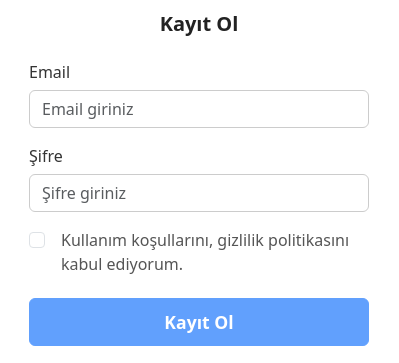
Test case: Login Form Tests › Başarılı form doldurulduğunda submit edip success sayfasına yönlenir
Type "test@example.com" into the field with id "email" at (199, 109), box [29, 90, 369, 128]
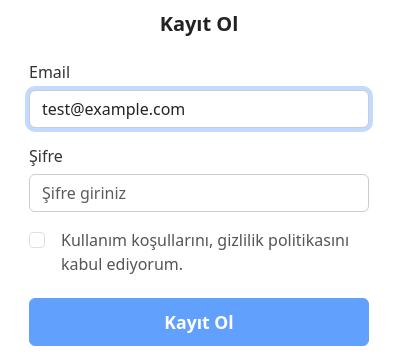
Type "ValidPass1!" into the password field labelled "Şifre" at (199, 193), box [29, 174, 369, 212]
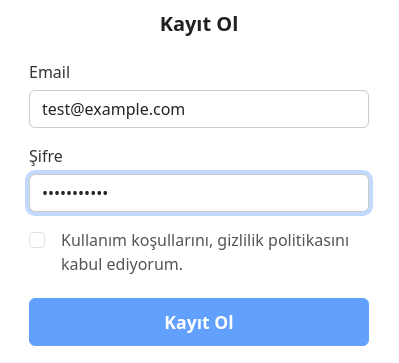
Check the checkbox with id "terms" at (37, 240), box [29, 232, 45, 248]
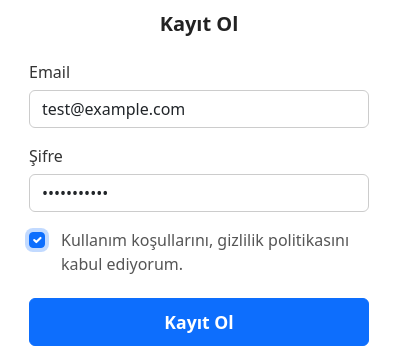
Expected: the submit button is enabled
Click the submit button at (199, 322), box [29, 298, 369, 346]
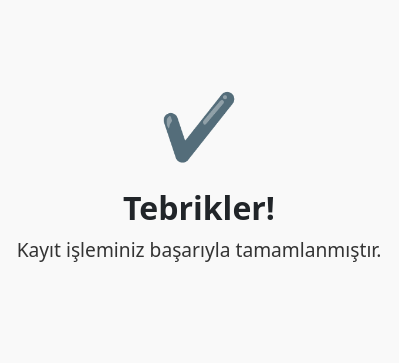
Expected: the text "Kayıt işleminiz başarıyla tamamlanmıştır" is shown, [17, 236, 382, 263]
